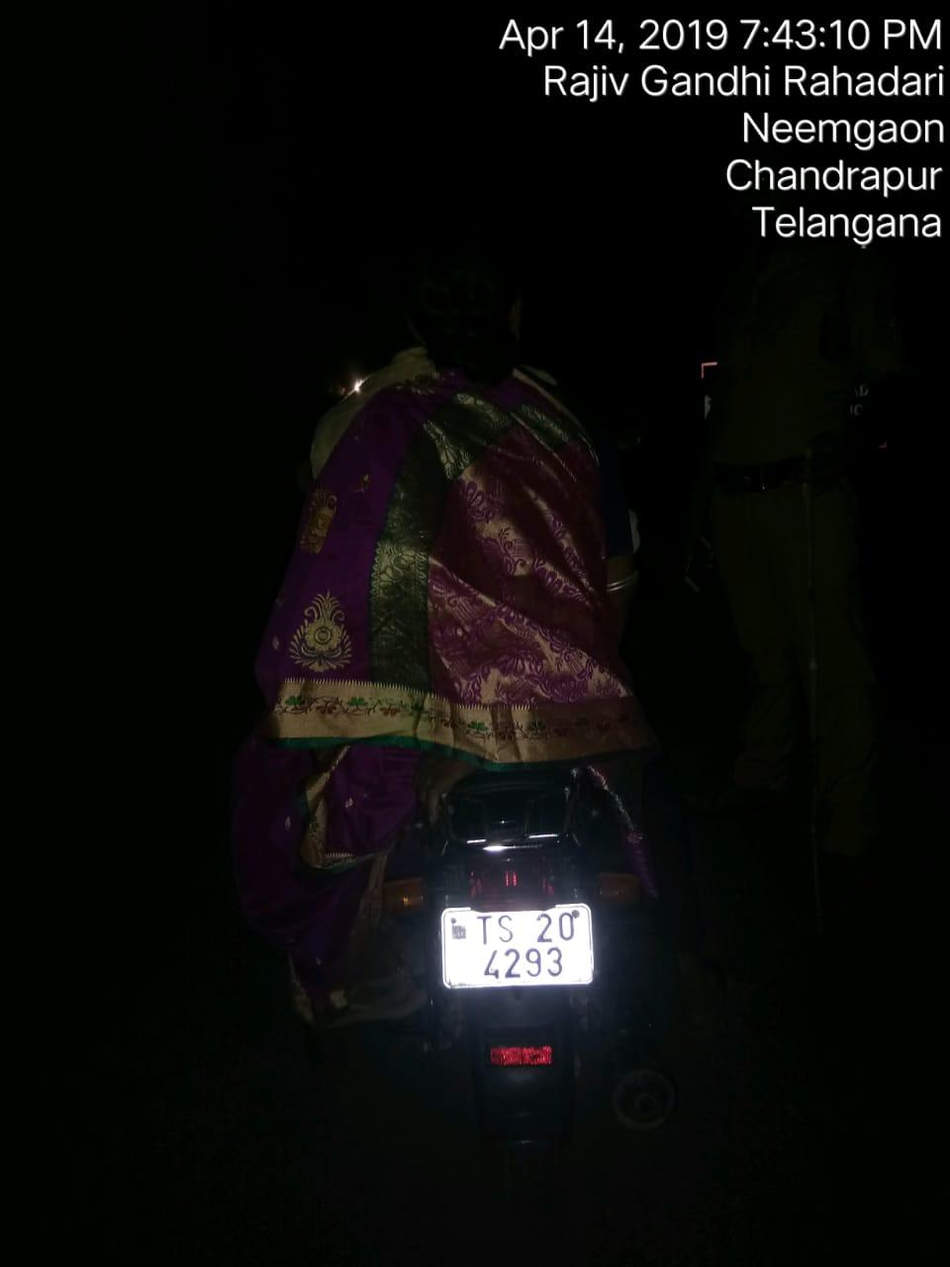plate: (433, 878, 621, 1009)
